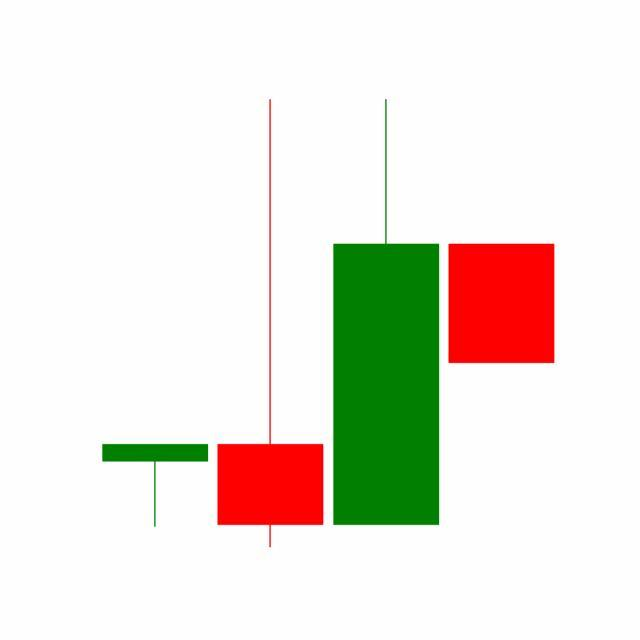Marubozu: (444, 243, 560, 365)
